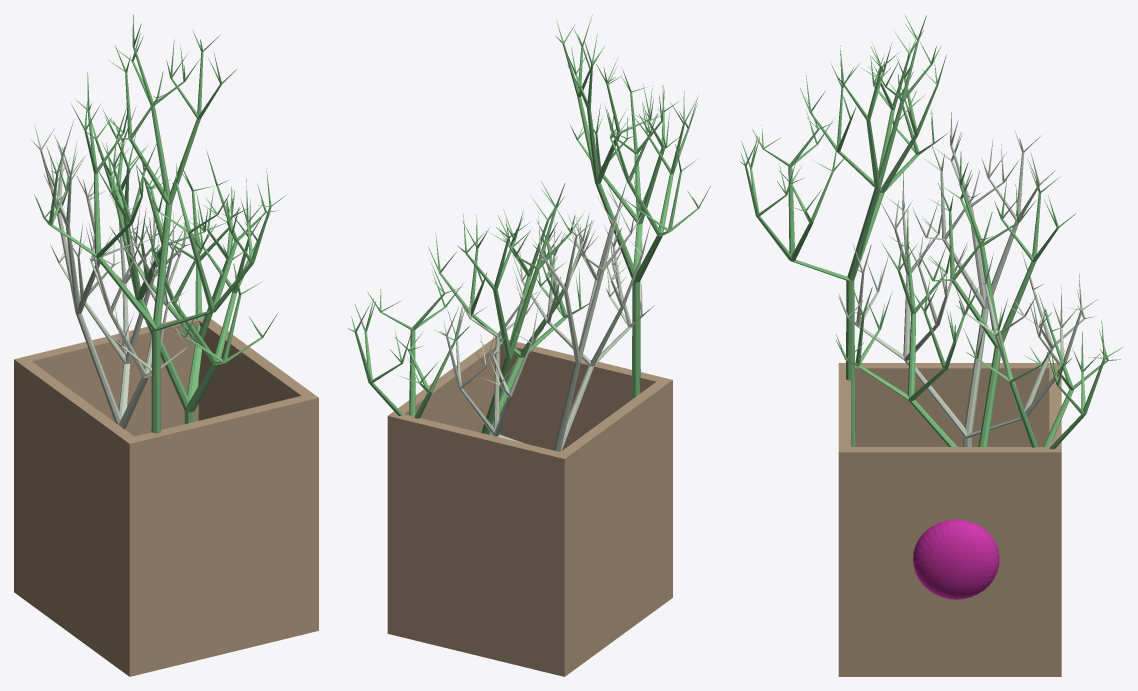
Rendered from maceta.glb.
3 renders of one model, left to right at view 1: azimuth 30°, elevation 25°; view 2: azimuth 150°, elevation 25°; view 3: azimuth 270°, elevation 25°, orthographic. The views are drawn at different scales.
Visible parts, largest first — view 1: Mesh_Mesh_head_geo.001_lambert2SG.001; view 2: Mesh_Mesh_head_geo.001_lambert2SG.001; view 3: Mesh_Mesh_head_geo.001_lambert2SG.001.
Part boxes in pixels (box(x1,y1,x2,y2)): Mesh_Mesh_head_geo.001_lambert2SG.001: box(14, 14, 318, 676); Mesh_Mesh_head_geo.001_lambert2SG.001: box(348, 15, 710, 676); Mesh_Mesh_head_geo.001_lambert2SG.001: box(740, 15, 1123, 676).
Size of the model in its own units: 0.026 by 0.053 by 0.031.
